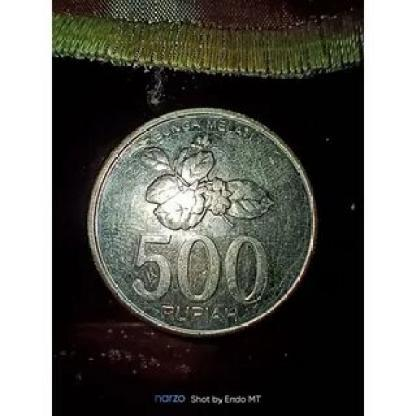coin_500_e2003: (88, 103, 321, 341)
